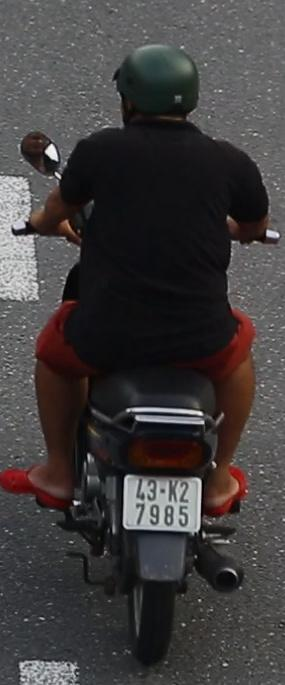LP: (120, 467, 207, 546)
helmet: (112, 46, 203, 131)
